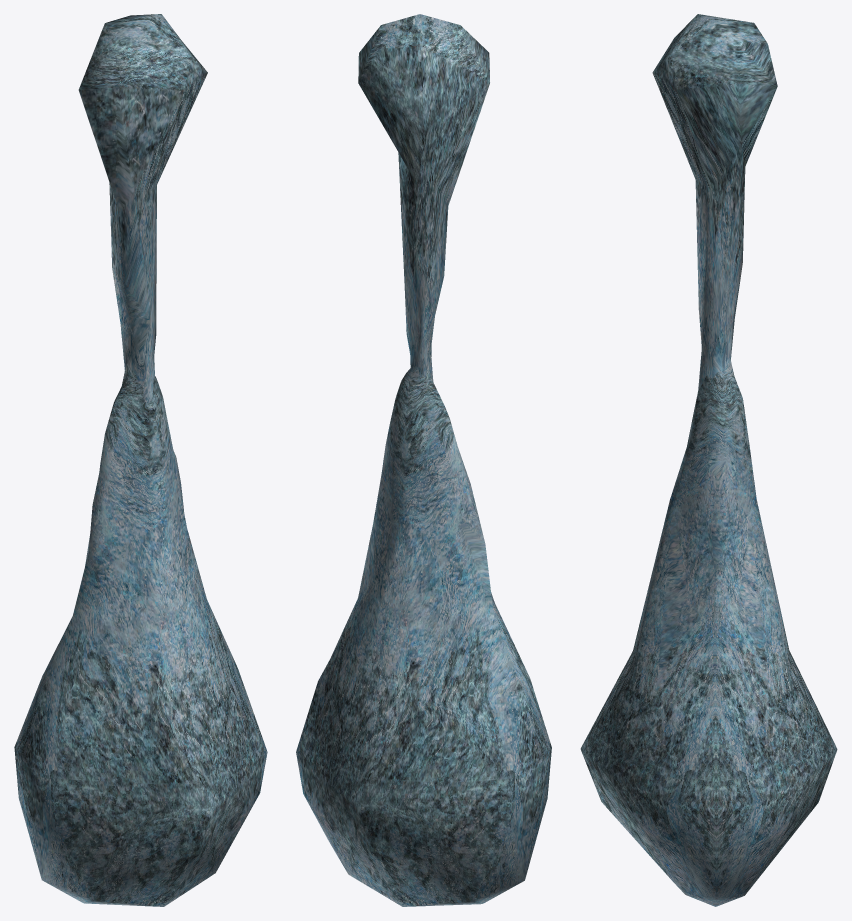
The model's file is thm_all_cave_column_ice_a3_l0.fbx.
3 views of the same model, side by side, from view 1: azimuth 30°, elevation 25°; view 2: azimuth 150°, elevation 25°; view 3: azimuth 270°, elevation 25° (orthographic).
Parts seen in each view (by area): view 1: mesh_node; view 2: mesh_node; view 3: mesh_node.
Boxes of the visible parts, <box> form: mesh_node: <box>14,14,267,906</box>; mesh_node: <box>296,14,551,906</box>; mesh_node: <box>580,14,837,906</box>.
Bounding box in the file's own units: 4.26 × 15.14 × 4.09.
